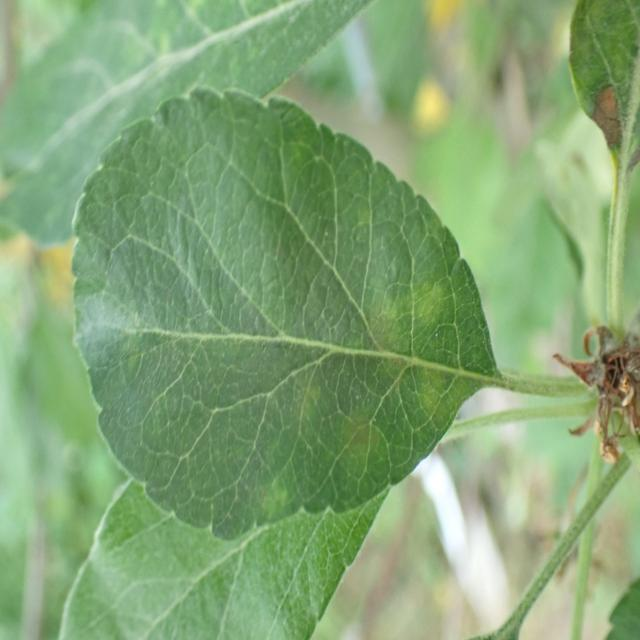scab: (204, 245, 468, 507)
